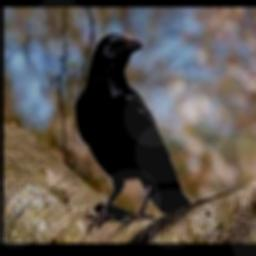Crow: (74, 33, 190, 229)
